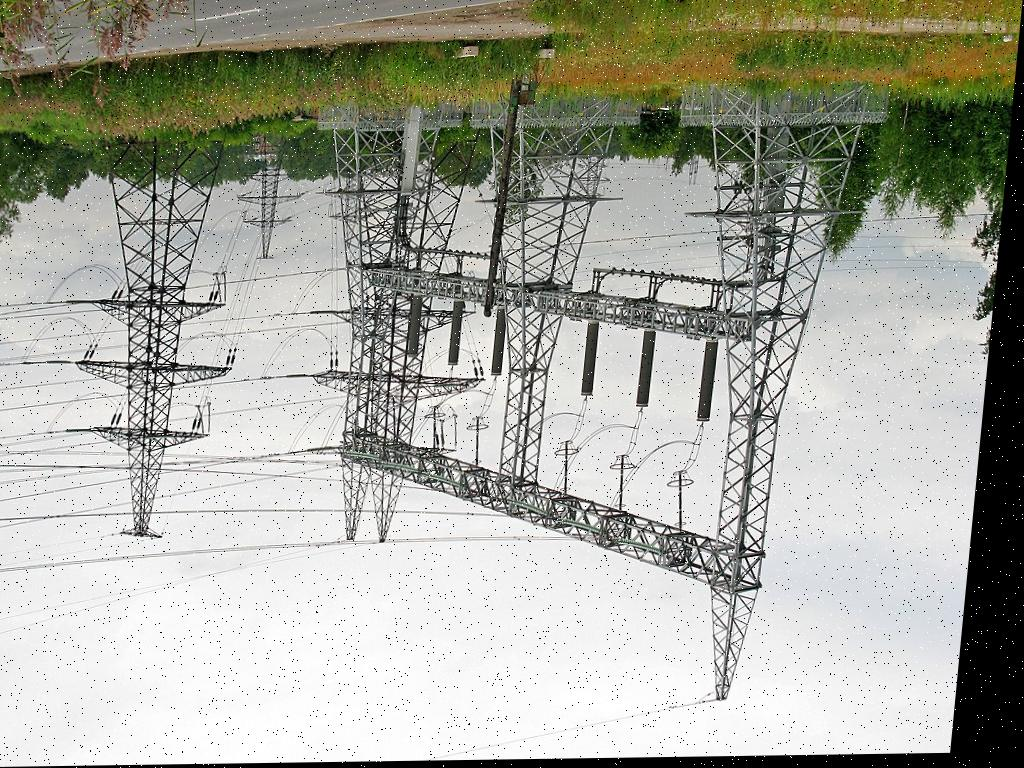tower: (37, 141, 261, 565)
